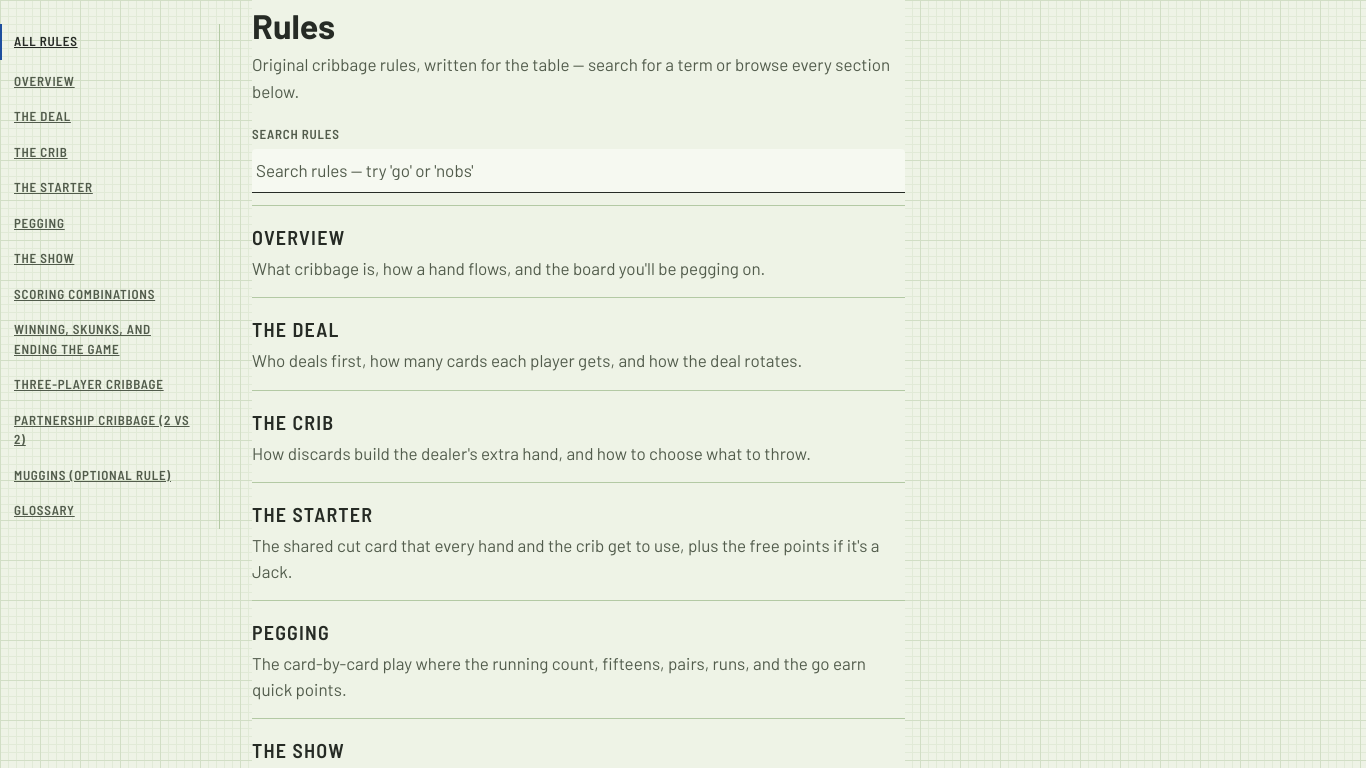
Test: RulesIndexPage › clears the query with the × button
The image size is (1366, 768).
Type "nobs" into the search field with placeholder "Search rules — try 'go' or 'nobs'". click: (579, 171)
box: left=252, top=149, right=905, bottom=193
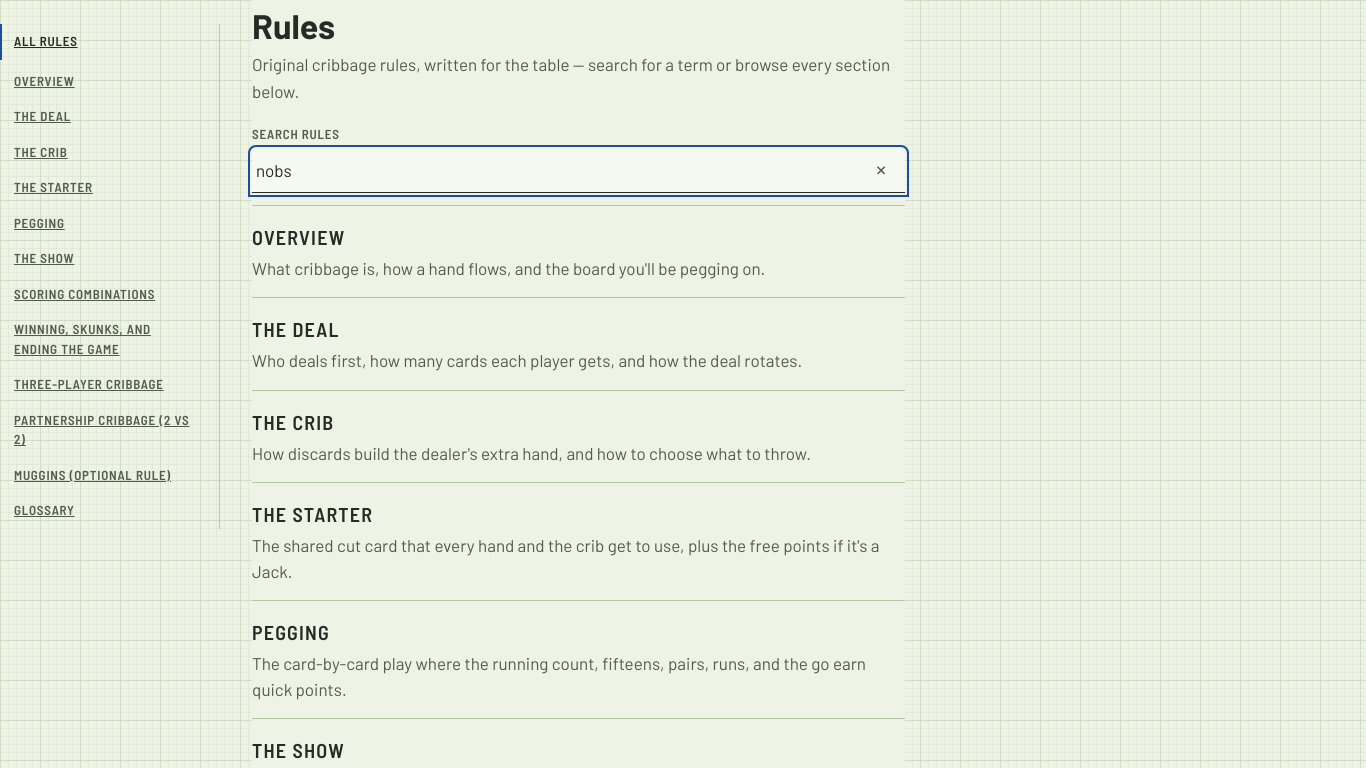
Click the button named "clear search". click: (881, 169)
box: left=865, top=153, right=897, bottom=185
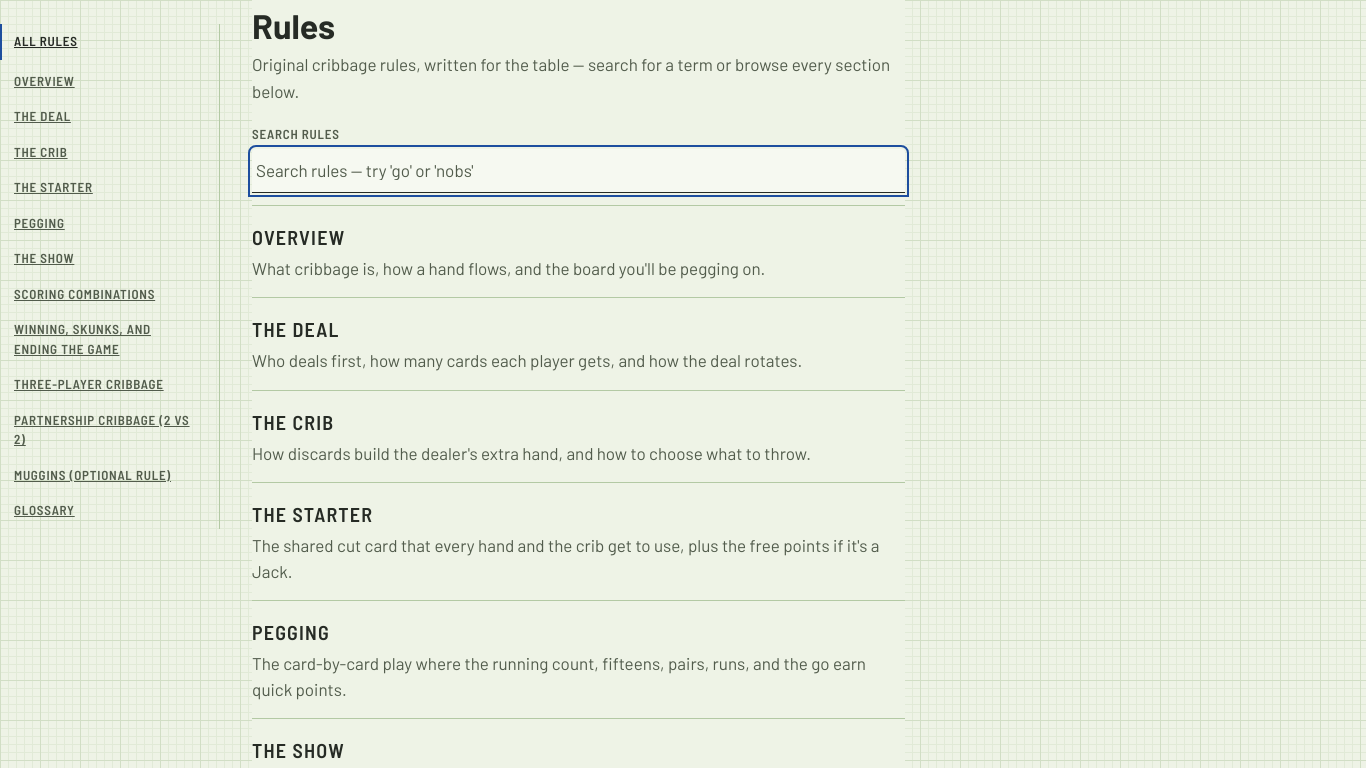
Now the search field with placeholder "Search rules — try 'go' or 'nobs'" is empty, box left=252, top=149, right=905, bottom=193
